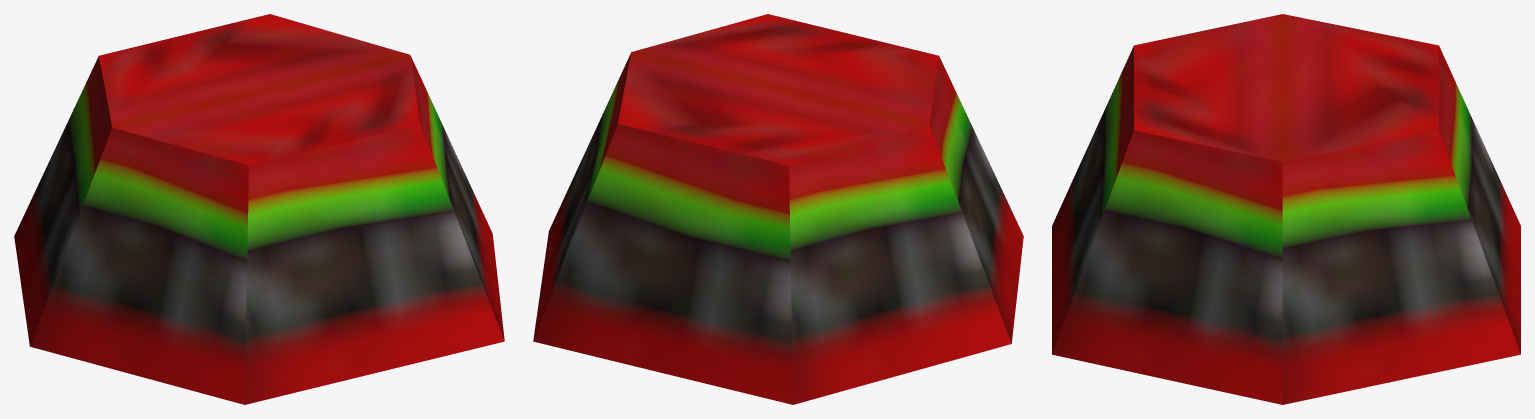
3 views of the same model, side by side, from view 1: azimuth 30°, elevation 25°; view 2: azimuth 150°, elevation 25°; view 3: azimuth 270°, elevation 25° (orthographic).
Parts seen in each view (by area): view 1: root; view 2: root; view 3: root.
Boxes of the visible parts, left/top/right/bottom form: root: left=14, top=14, right=504, bottom=404; root: left=533, top=14, right=1023, bottom=404; root: left=1052, top=14, right=1520, bottom=404.
Size of the model in its own units: 0.1426 by 0.0586 by 0.123.
Materials: 1 (1 with a texture image).
